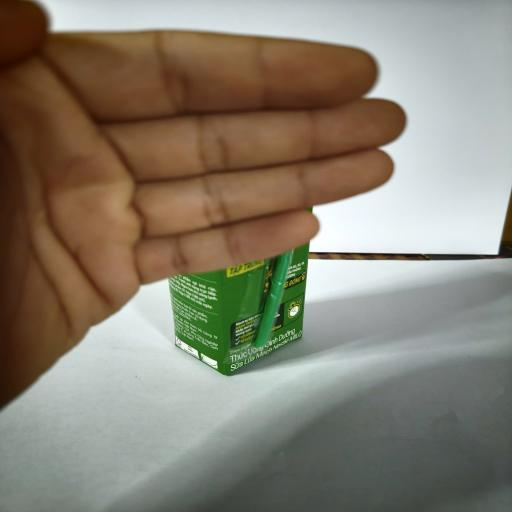milo: (168, 206, 313, 376)
